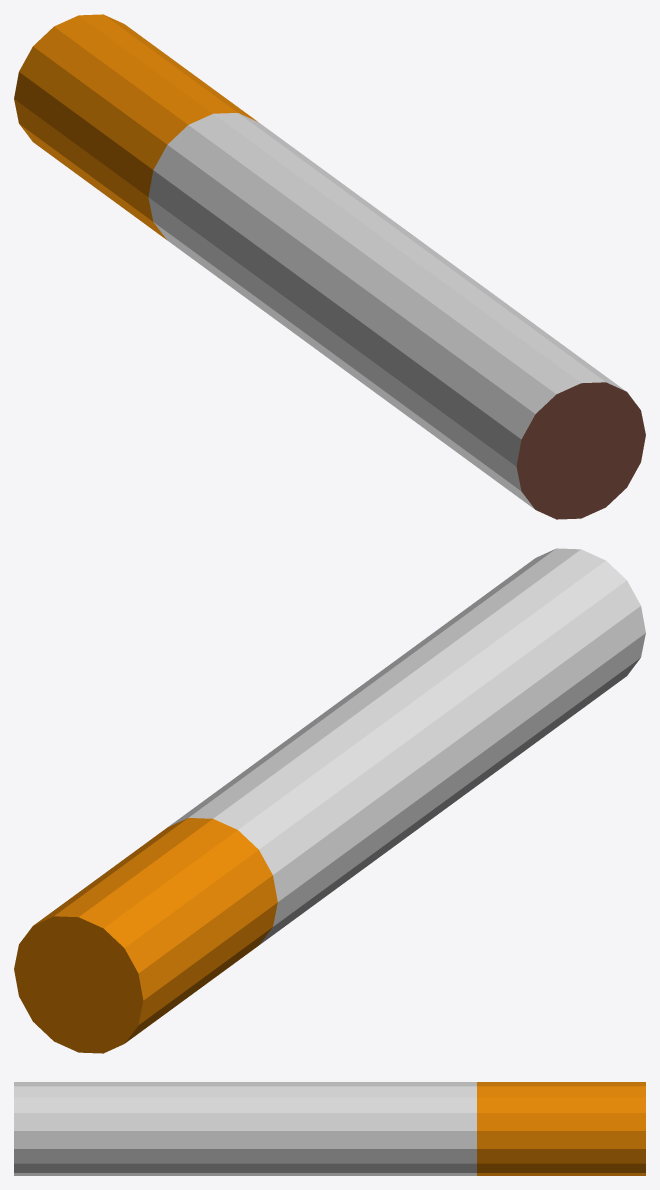
The model's file is Sigarro.fbx.
3 renders of one model, top to bottom at view 1: azimuth 30°, elevation 25°; view 2: azimuth 150°, elevation 25°; view 3: azimuth 270°, elevation 25°, orthographic. The views are drawn at different scales.
Parts seen in each view (by area): view 1: Circle; view 2: Circle; view 3: Circle.
Boxes of the visible parts, x1,y1,x2,y2 form: Circle: (14, 14, 645, 519); Circle: (14, 548, 645, 1053); Circle: (14, 1082, 645, 1175).
Bounding box in the file's own units: 29.74 × 29.74 × 200.
